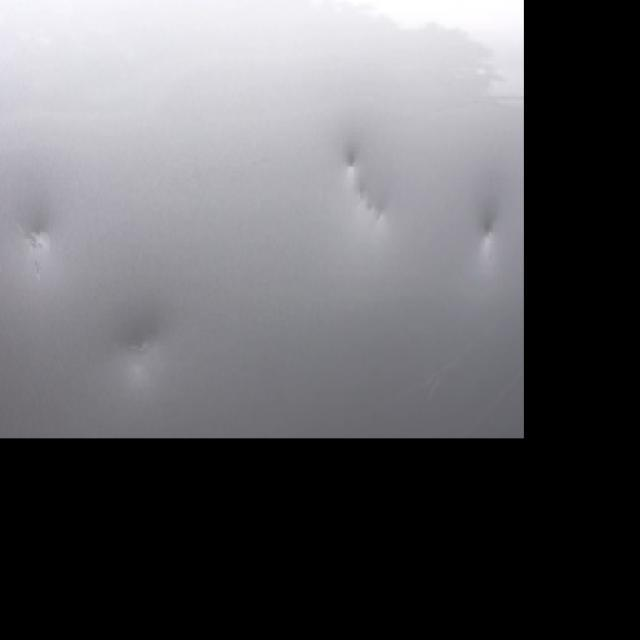dent: (334, 151, 390, 250), (91, 318, 166, 377), (10, 208, 60, 290), (463, 210, 494, 263)
